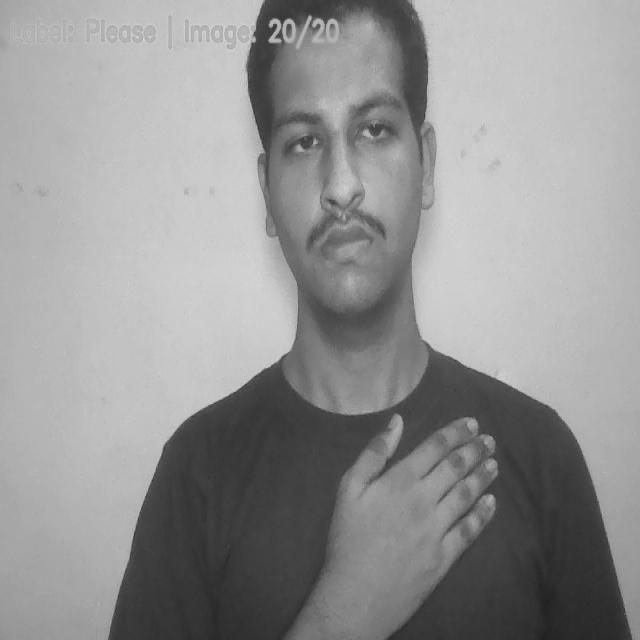Please: (317, 408, 498, 600)
